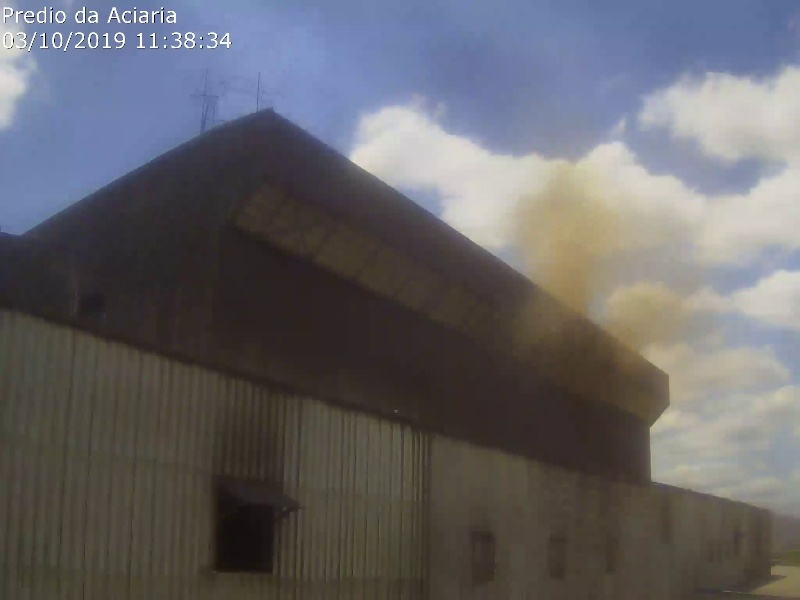bom: (6, 27, 292, 181)
ruim: (494, 104, 737, 427)
